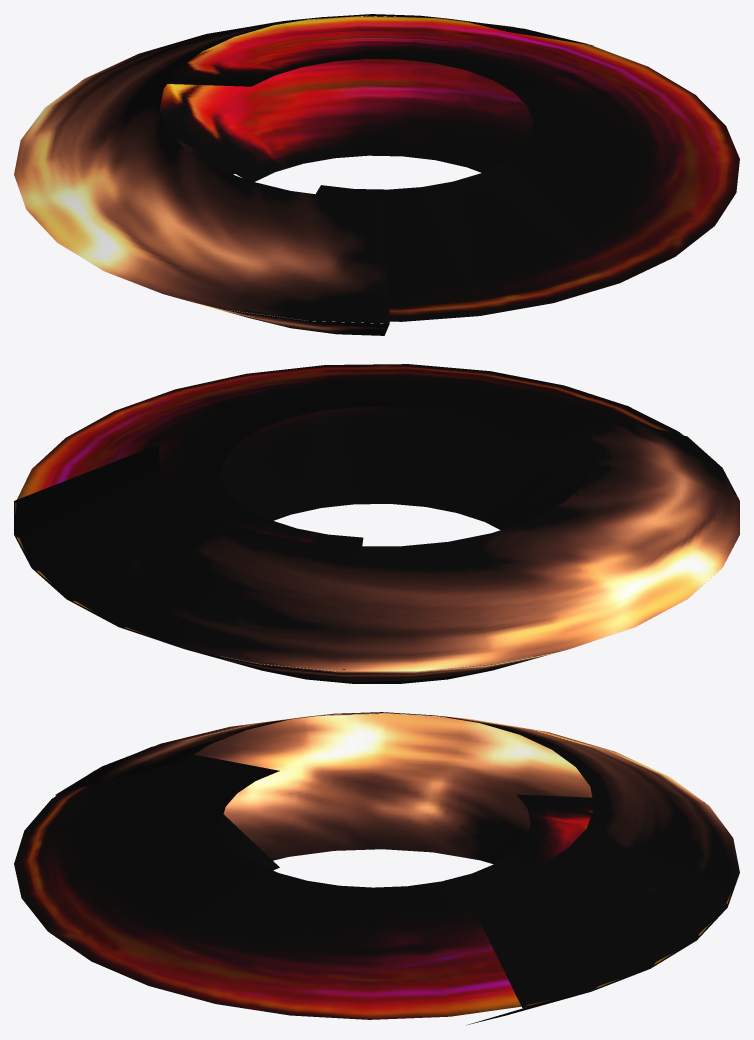
The model's file is chengqi_attack_effect_1.FBX.
The picture shows the model from 3 angles, top to bottom: view 1: azimuth 30°, elevation 25°; view 2: azimuth 150°, elevation 25°; view 3: azimuth 270°, elevation 25°; orthographic projection.
Parts seen in each view (by area): view 1: attack_1; view 2: attack_1; view 3: attack_1.
Boxes of the visible parts, x1,y1,x2,y2 form: attack_1: (14,14,739,335); attack_1: (14,364,739,683); attack_1: (14,712,739,1025).
Bounding box in the file's own units: 10.57 × 2.2 × 10.57.
Materials: 2 (2 with a texture image).
